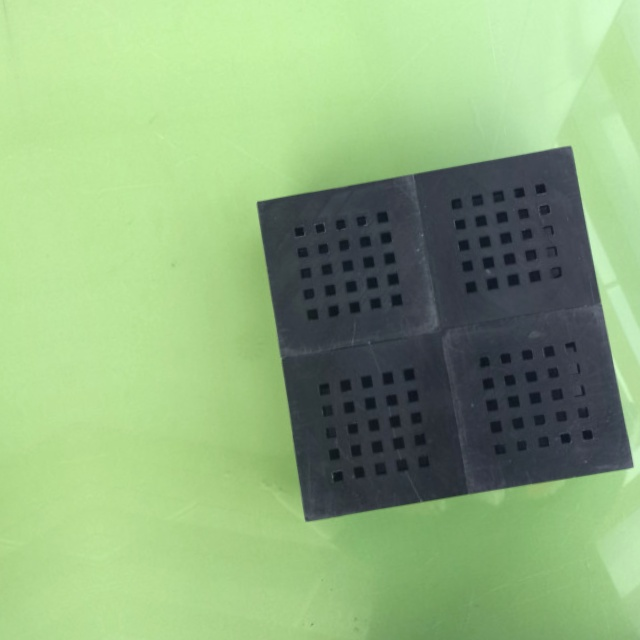pallet: (250, 139, 634, 530)
